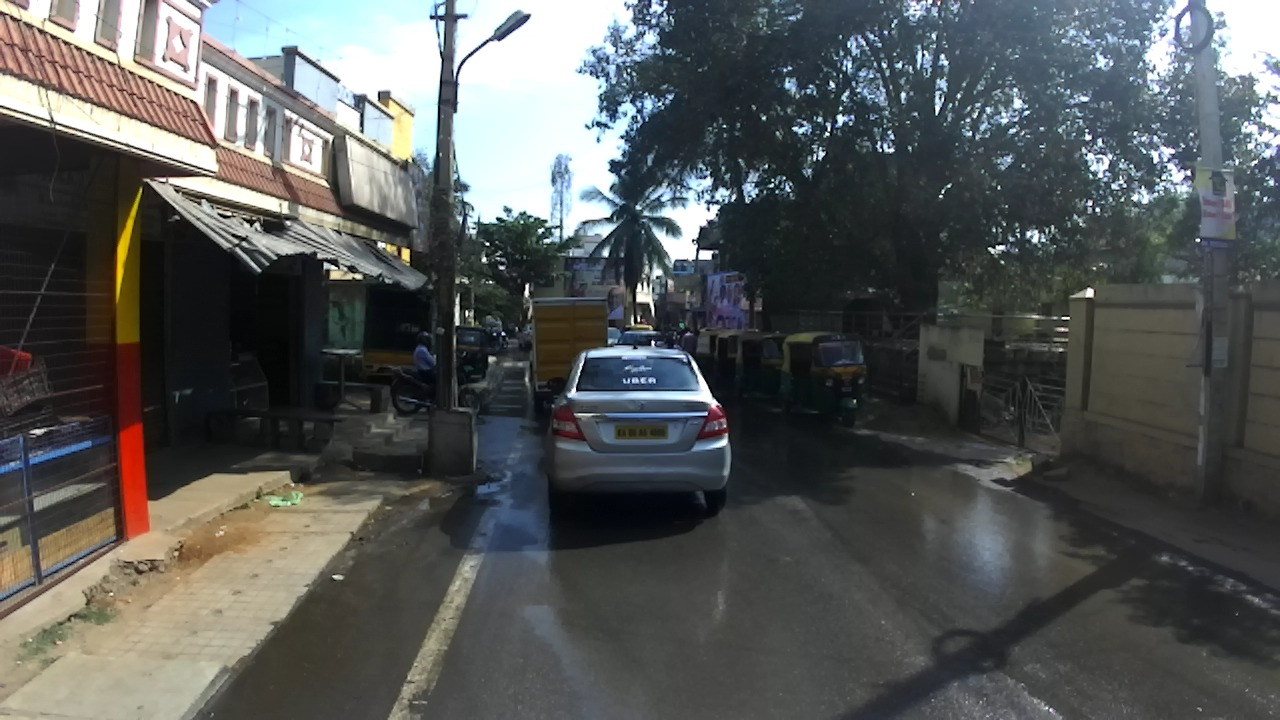autorickshaw: (778, 330, 867, 425), (736, 331, 787, 399), (712, 328, 758, 392), (456, 326, 490, 378), (696, 327, 720, 374), (629, 324, 653, 332)
car: (544, 344, 732, 514), (617, 331, 662, 345), (515, 325, 536, 350), (607, 327, 621, 347)
motorcycle: (391, 351, 481, 417), (501, 335, 508, 350), (507, 328, 516, 339)
person: (681, 326, 697, 354), (664, 329, 676, 348), (678, 327, 685, 348), (692, 324, 699, 340)
rider: (412, 331, 437, 383), (507, 320, 515, 334), (638, 314, 647, 324), (500, 329, 507, 341)
truck: (526, 296, 607, 423), (360, 278, 433, 382)
vehicle fallback: (483, 314, 503, 335), (487, 329, 500, 350), (622, 323, 631, 332)
